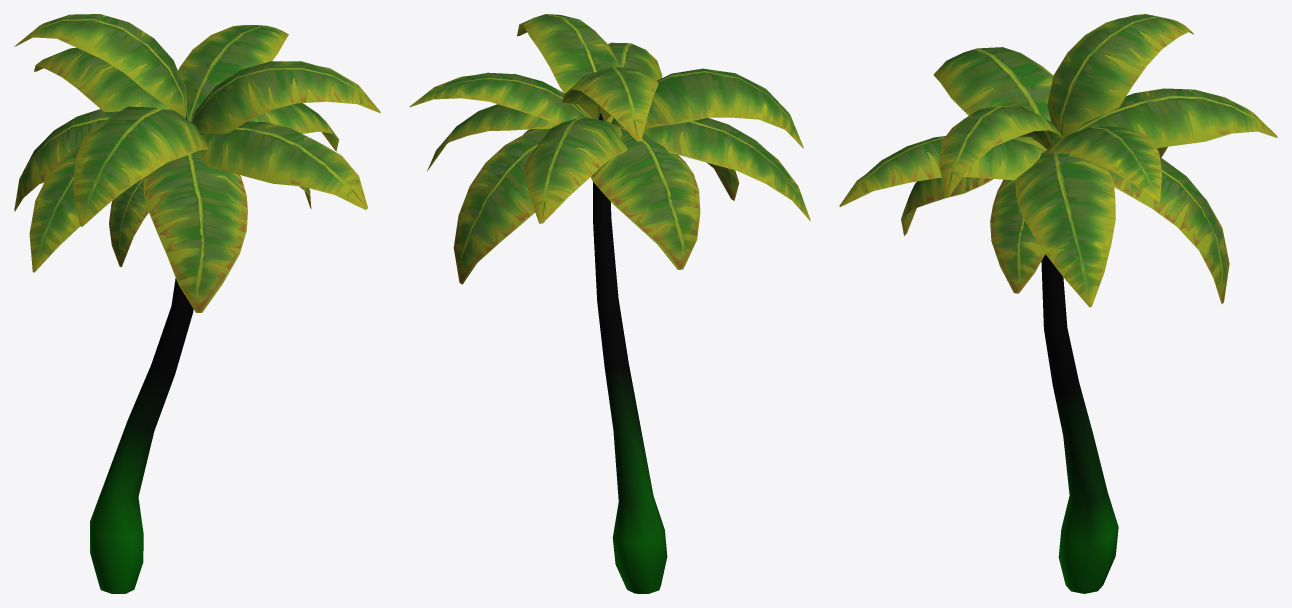
Rendered from P_PalmTree01.obj.
3 renders of one model, left to right at view 1: azimuth 30°, elevation 25°; view 2: azimuth 150°, elevation 25°; view 3: azimuth 270°, elevation 25°, orthographic. The views are drawn at different scales.
Bounding box in the file's own units: 6.57 × 9.86 × 6.95.
